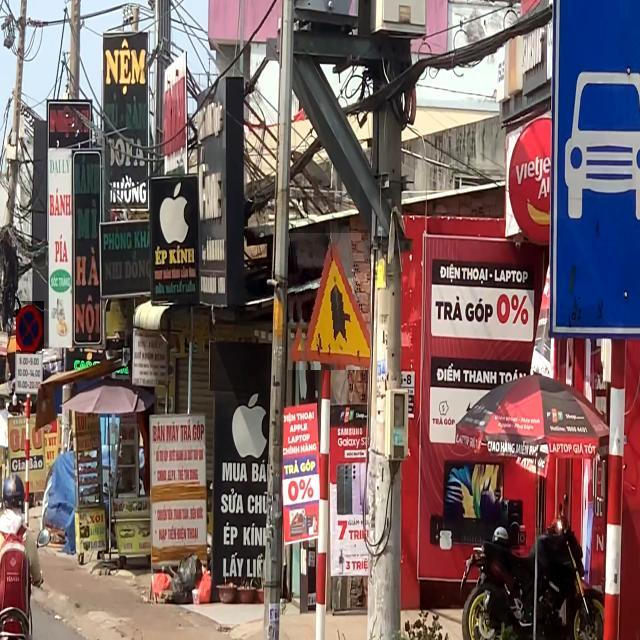P-130: (16, 301, 44, 354)
W-207b: (288, 233, 370, 370)
